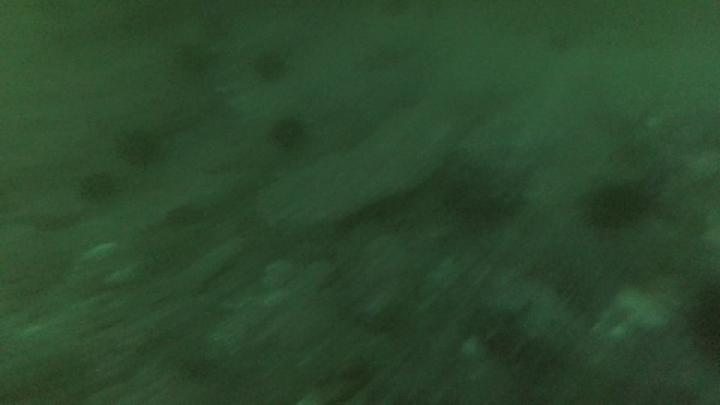echinus: (583, 179, 650, 239), (115, 120, 165, 170), (74, 167, 117, 212), (270, 114, 307, 154), (252, 46, 288, 86)
